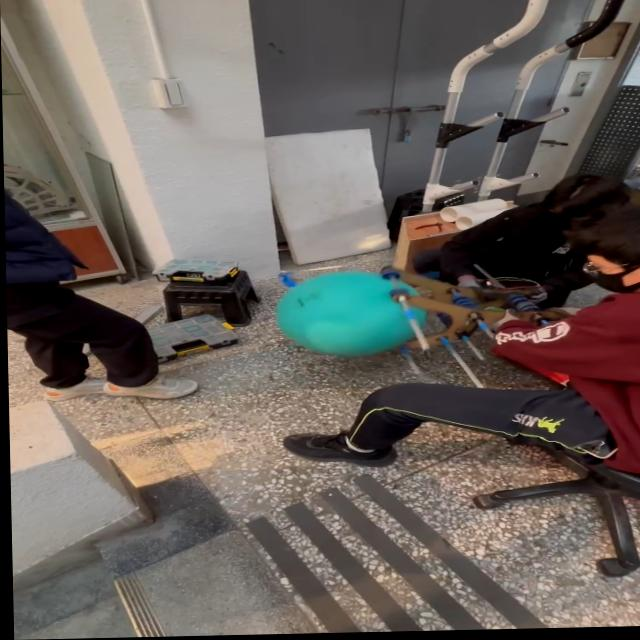ALGAE: (273, 269, 431, 360)
